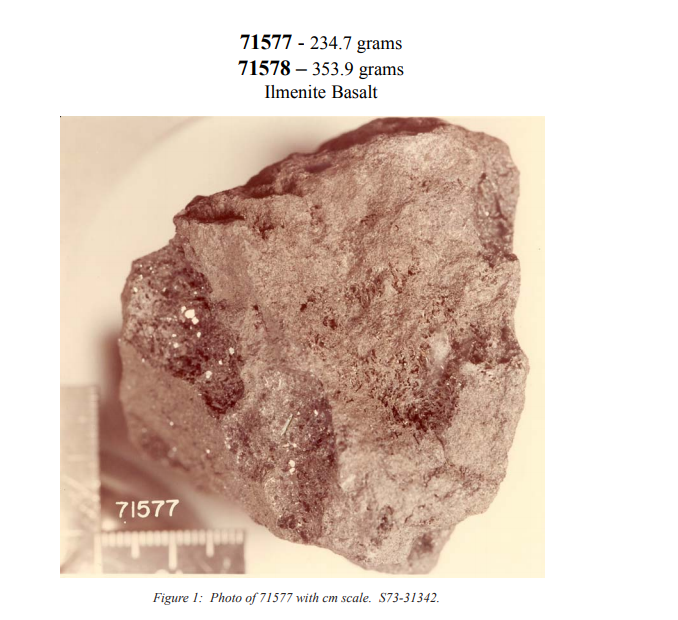Basalt: (104, 115, 534, 537)
